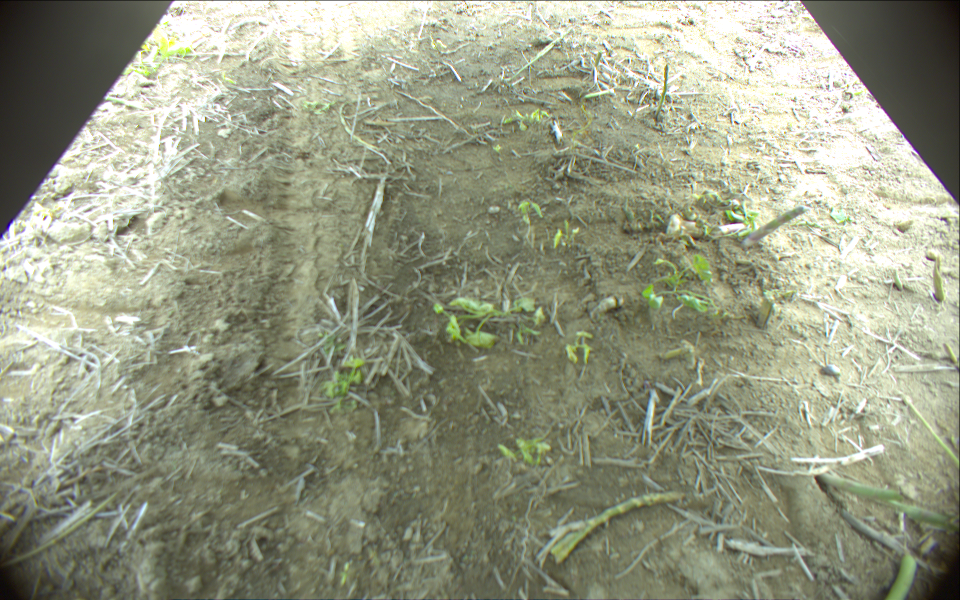aspa: (549, 489, 684, 564), (815, 470, 960, 531), (905, 397, 960, 469), (505, 26, 575, 82), (741, 203, 808, 248), (887, 551, 918, 600), (653, 64, 671, 119), (933, 253, 947, 298), (755, 296, 775, 327), (944, 343, 960, 370), (585, 87, 614, 101), (591, 50, 605, 72), (893, 269, 902, 290)
